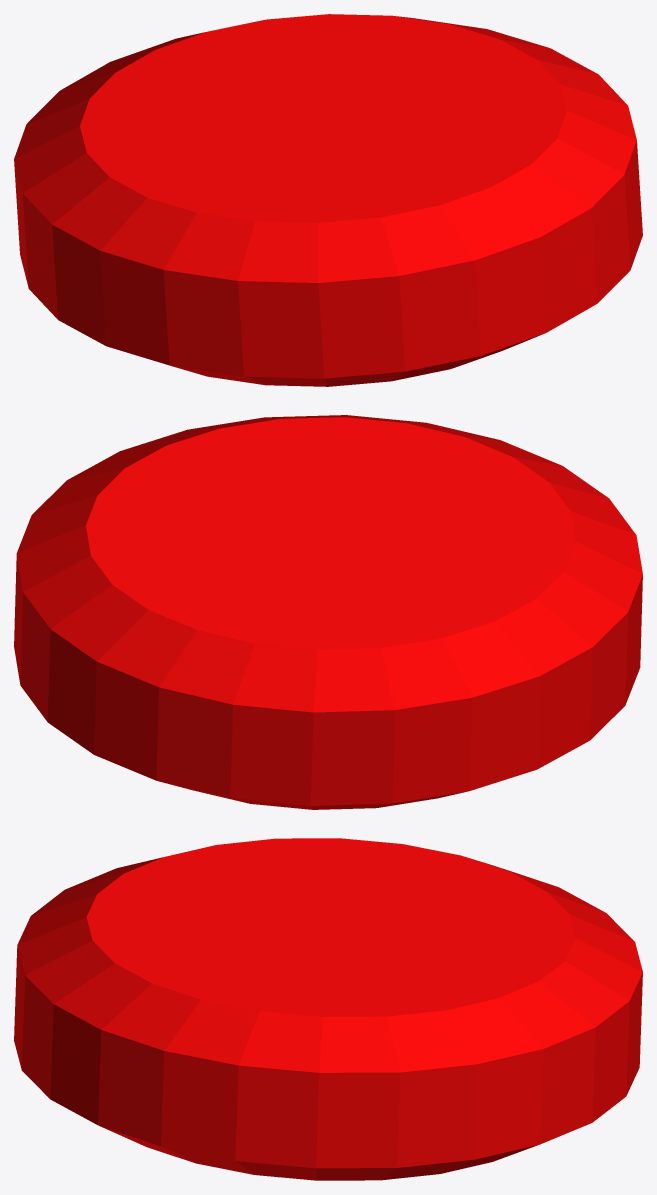
Rendered from redcell.glb.
3 renders of one model, top to bottom at view 1: azimuth 30°, elevation 25°; view 2: azimuth 150°, elevation 25°; view 3: azimuth 270°, elevation 25°, orthographic. The views are drawn at different scales.
Parts seen in each view (by area): view 1: MergableThingPart; view 2: MergableThingPart; view 3: MergableThingPart.
Boxes of the visible parts, x1,y1,x2,y2 form: MergableThingPart: [14, 14, 642, 386]; MergableThingPart: [14, 415, 642, 809]; MergableThingPart: [14, 838, 642, 1180].
Bounding box in the file's own units: 0.3654 × 0.1223 × 0.3768.
